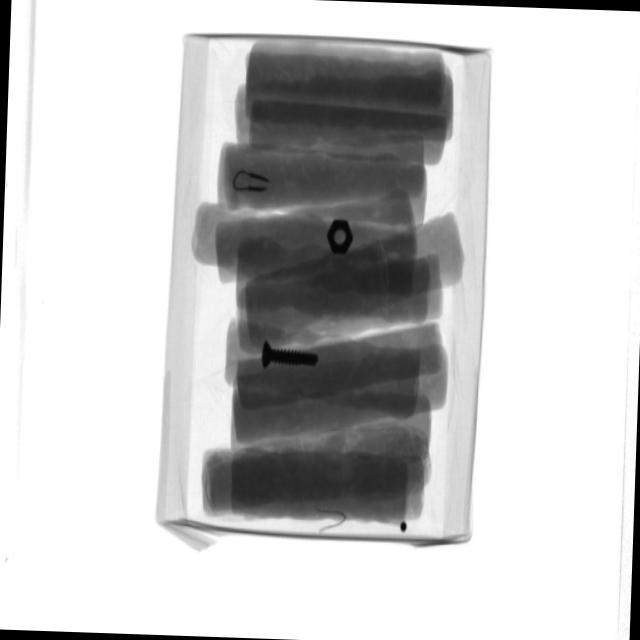ym: (263, 342, 319, 371), (327, 218, 354, 256), (232, 170, 271, 193), (317, 506, 346, 533), (401, 522, 410, 533)
